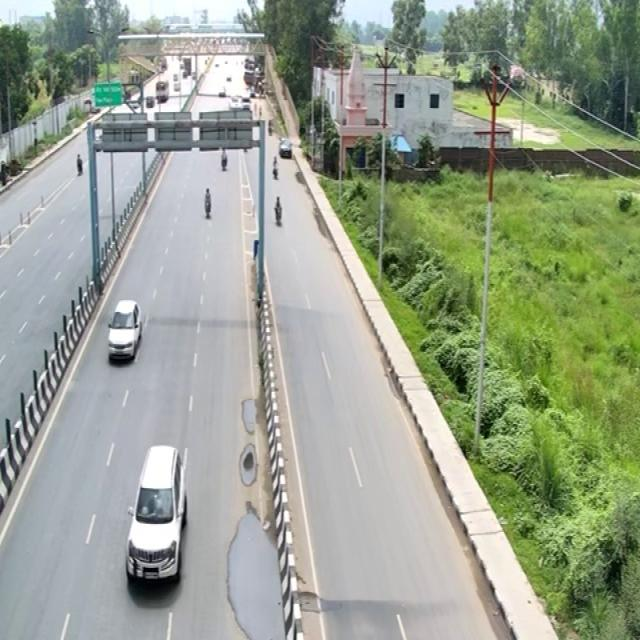car: (122, 436, 190, 591), (104, 295, 144, 364)
